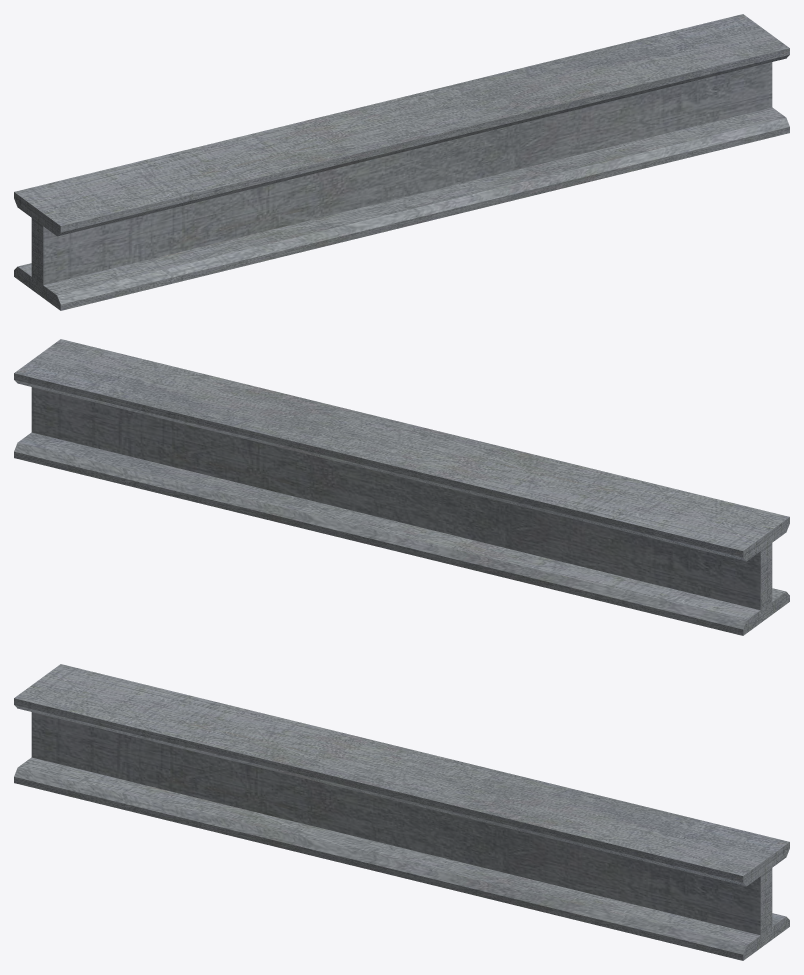
Rendered from steel_girder2.fbx.
3 renders of one model, top to bottom at view 1: azimuth 30°, elevation 25°; view 2: azimuth 150°, elevation 25°; view 3: azimuth 330°, elevation 25°, orthographic.
Visible parts, largest first — view 1: Steel_girder; view 2: Steel_girder; view 3: Steel_girder.
Boxes of the visible parts, bbox=[...] form: Steel_girder: bbox=[14, 14, 789, 310]; Steel_girder: bbox=[14, 339, 789, 635]; Steel_girder: bbox=[14, 664, 789, 960].
Size of the model in its own units: 9 by 1 by 1.
